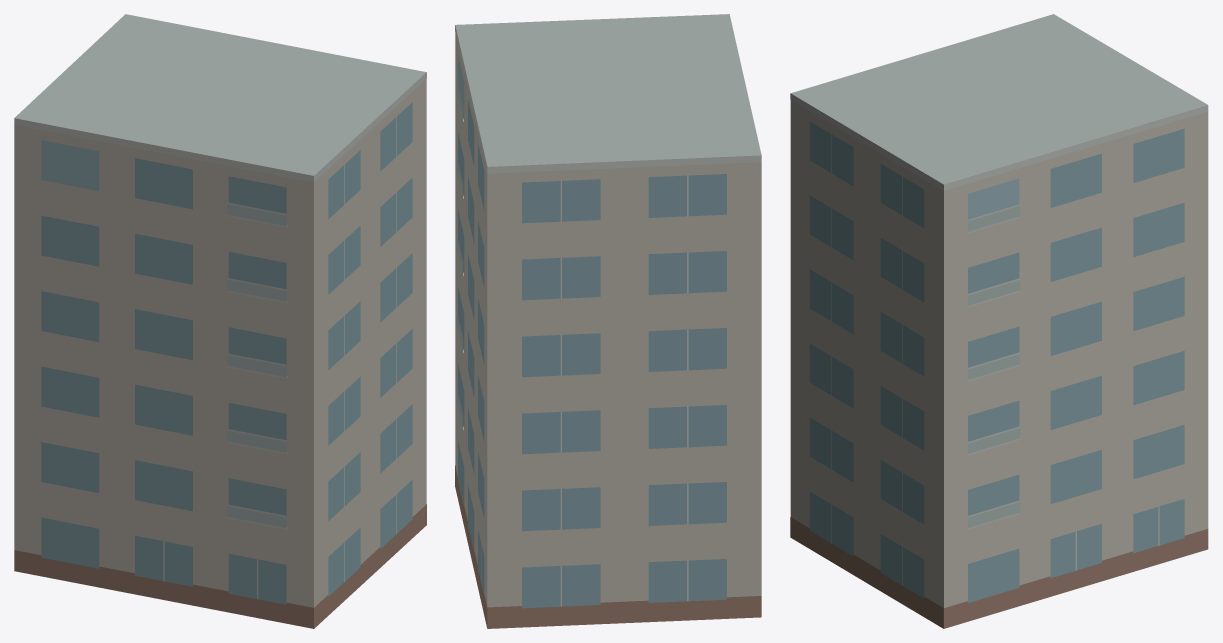
File: survey-upis-32979956.glb
The picture shows the model from 3 angles, left to right: view 1: azimuth 30°, elevation 25°; view 2: azimuth 150°, elevation 25°; view 3: azimuth 270°, elevation 25°; orthographic projection. The views are drawn at different scales.
Visible parts, largest first — view 1: survey-upis-32979956.tmp; view 2: survey-upis-32979956.tmp; view 3: survey-upis-32979956.tmp.
Boxes of the visible parts, x1,y1,x2,y2 form: survey-upis-32979956.tmp: [14, 14, 426, 628]; survey-upis-32979956.tmp: [455, 14, 761, 628]; survey-upis-32979956.tmp: [790, 14, 1208, 628].
Bounding box in the file's own units: 13.93 × 16.9 × 14.41.
